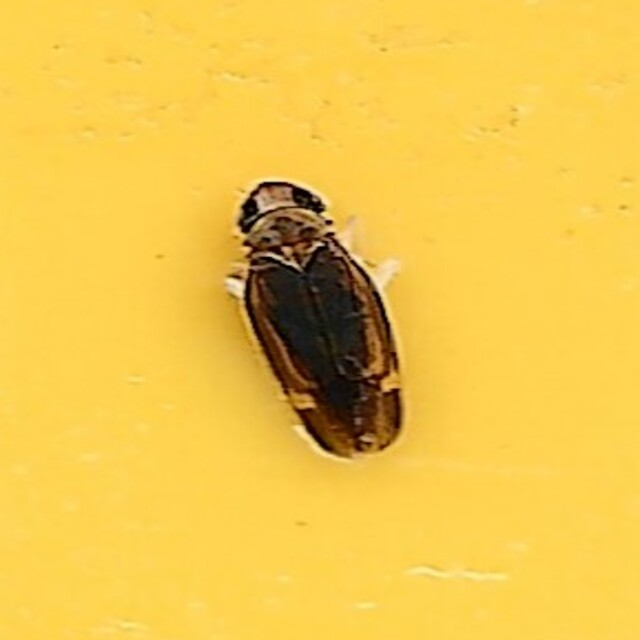Hemiptera: (221, 173, 419, 467)
